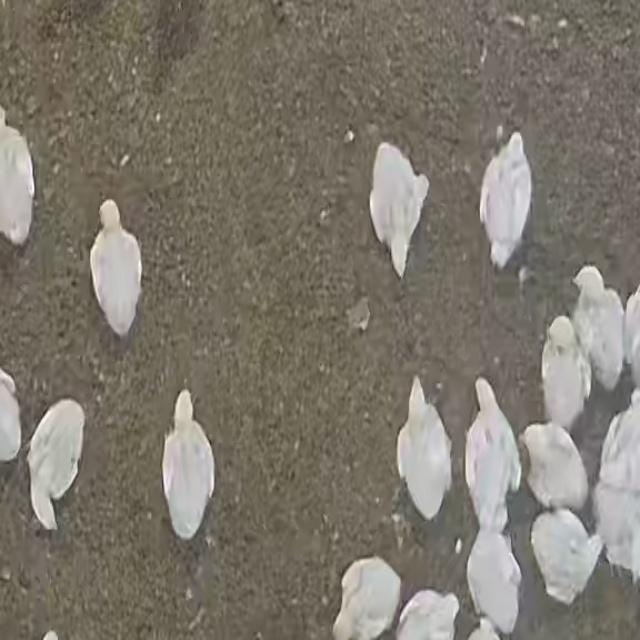chicken: (369, 138, 431, 280), (462, 376, 520, 524), (396, 377, 454, 524), (161, 390, 216, 540), (26, 397, 87, 530), (478, 130, 534, 272), (89, 198, 142, 339), (465, 499, 520, 634), (526, 509, 602, 605), (520, 421, 590, 515), (570, 270, 623, 387), (538, 316, 590, 434), (332, 556, 402, 640), (1, 108, 36, 246), (597, 385, 640, 491), (599, 485, 640, 591), (393, 585, 458, 640), (0, 364, 21, 471)
